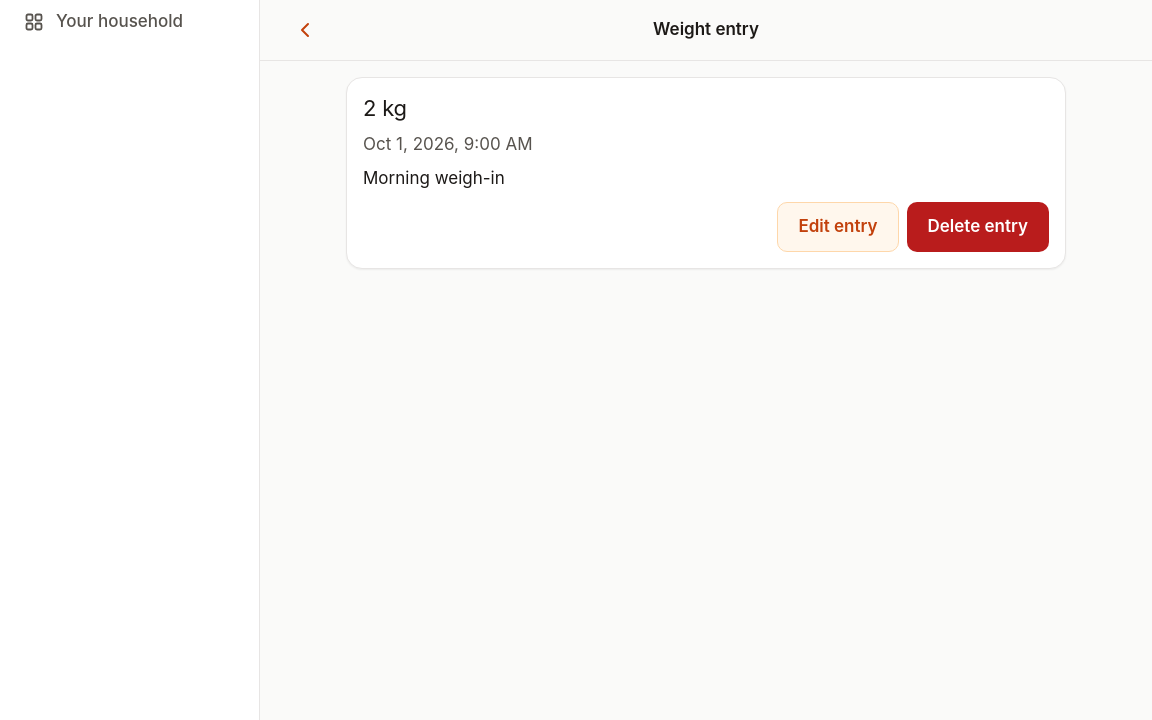
Test case: the weight entry detail route (WT-8, D1.2) › opens the pre-filled form from Edit and returns without writing on Cancel
Click the button "Edit entry": [838, 227] box [777,202,898,252]
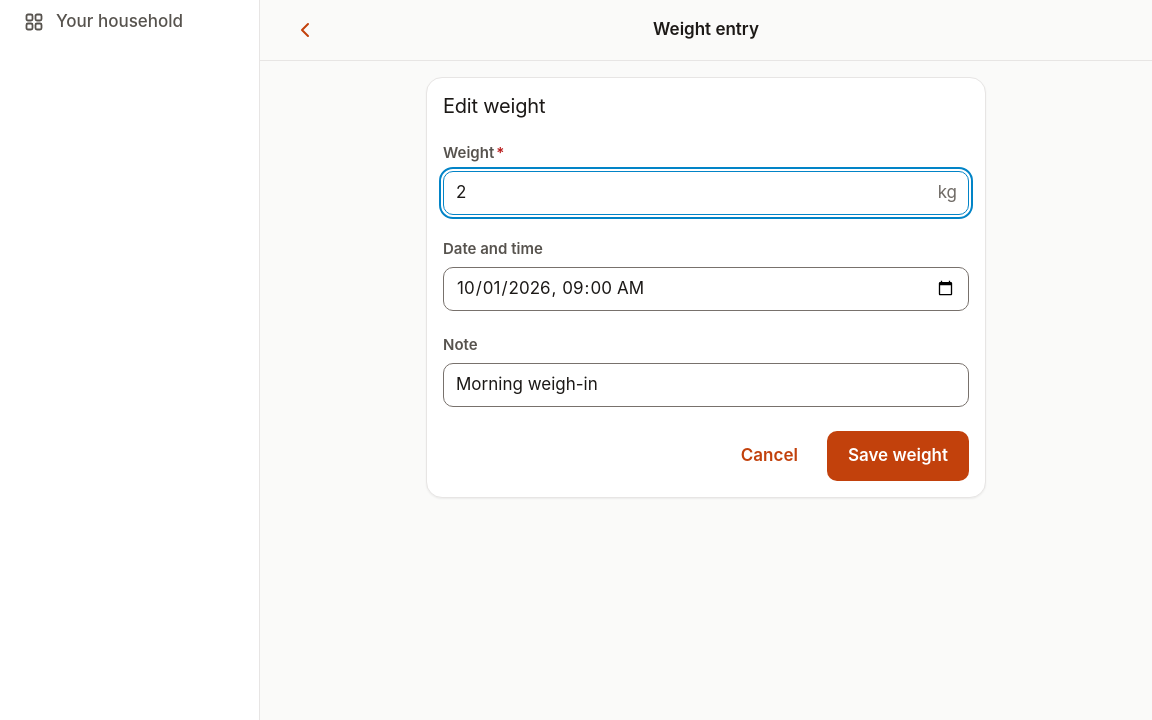
Expected: the field labelled "Date and time" holds "2026-10-01T09:00", [443,267,969,311]
Expected: the field labelled "Note" holds "Morning weigh-in", [443,363,969,407]
Click the button "Cancel": [769, 456] box [720,431,819,481]
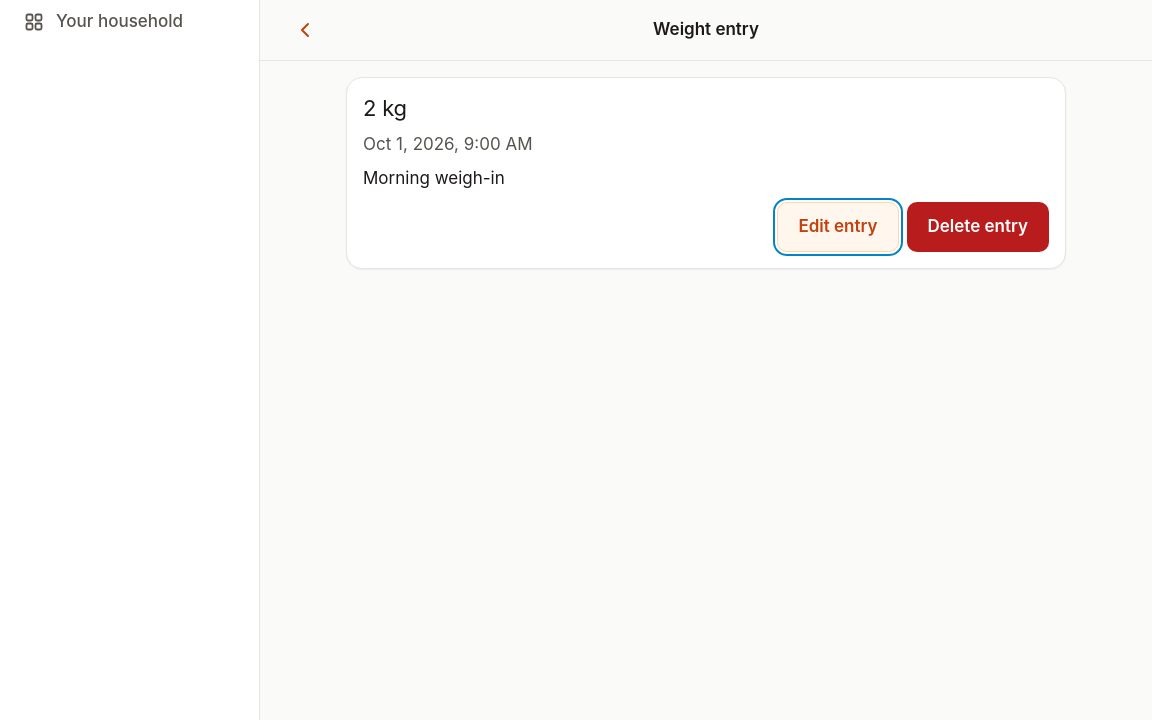
Expected: the text "Morning weigh-in" is shown, [363,168,505,188]
Expected: the button "Edit entry" is shown, [777,202,898,252]
